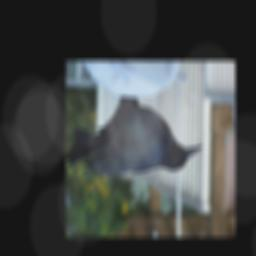Crow: (67, 98, 203, 178)
